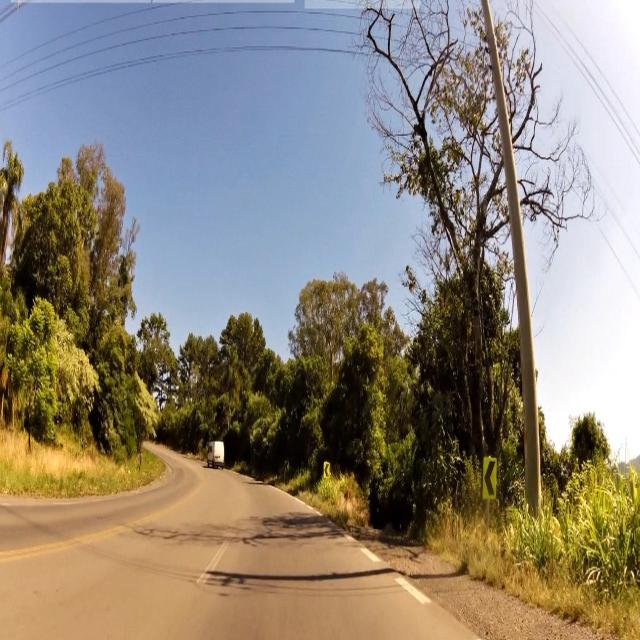Del: (482, 454, 498, 501)
